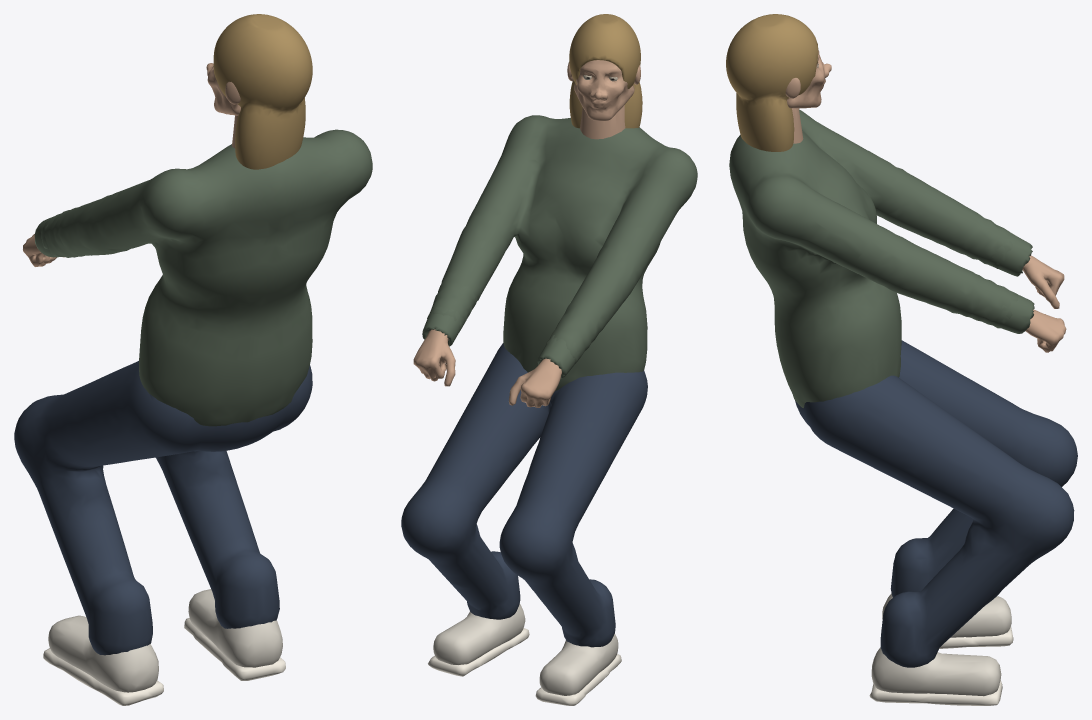
The model's file is patron_b.glb.
The picture shows the model from 3 angles, left to right: view 1: azimuth 30°, elevation 25°; view 2: azimuth 150°, elevation 25°; view 3: azimuth 270°, elevation 25°; orthographic projection. The views are drawn at different scales.
Visible parts, largest first — view 1: patron_b_body, patron_b_head, patron_b_hands; view 2: patron_b_body, patron_b_head, patron_b_hands; view 3: patron_b_body, patron_b_head, patron_b_hands.
Boxes of the visible parts, x1,y1,x2,y2 form: patron_b_body: [14, 115, 372, 705]; patron_b_head: [206, 14, 312, 169]; patron_b_hands: [23, 216, 64, 266]; patron_b_body: [401, 105, 697, 705]; patron_b_head: [567, 14, 642, 128]; patron_b_hands: [413, 307, 580, 407]; patron_b_body: [729, 108, 1077, 705]; patron_b_head: [726, 14, 831, 151]; patron_b_hands: [988, 231, 1066, 352].
Size of the model in its own units: 0.4355 by 1.36 by 0.6652.
